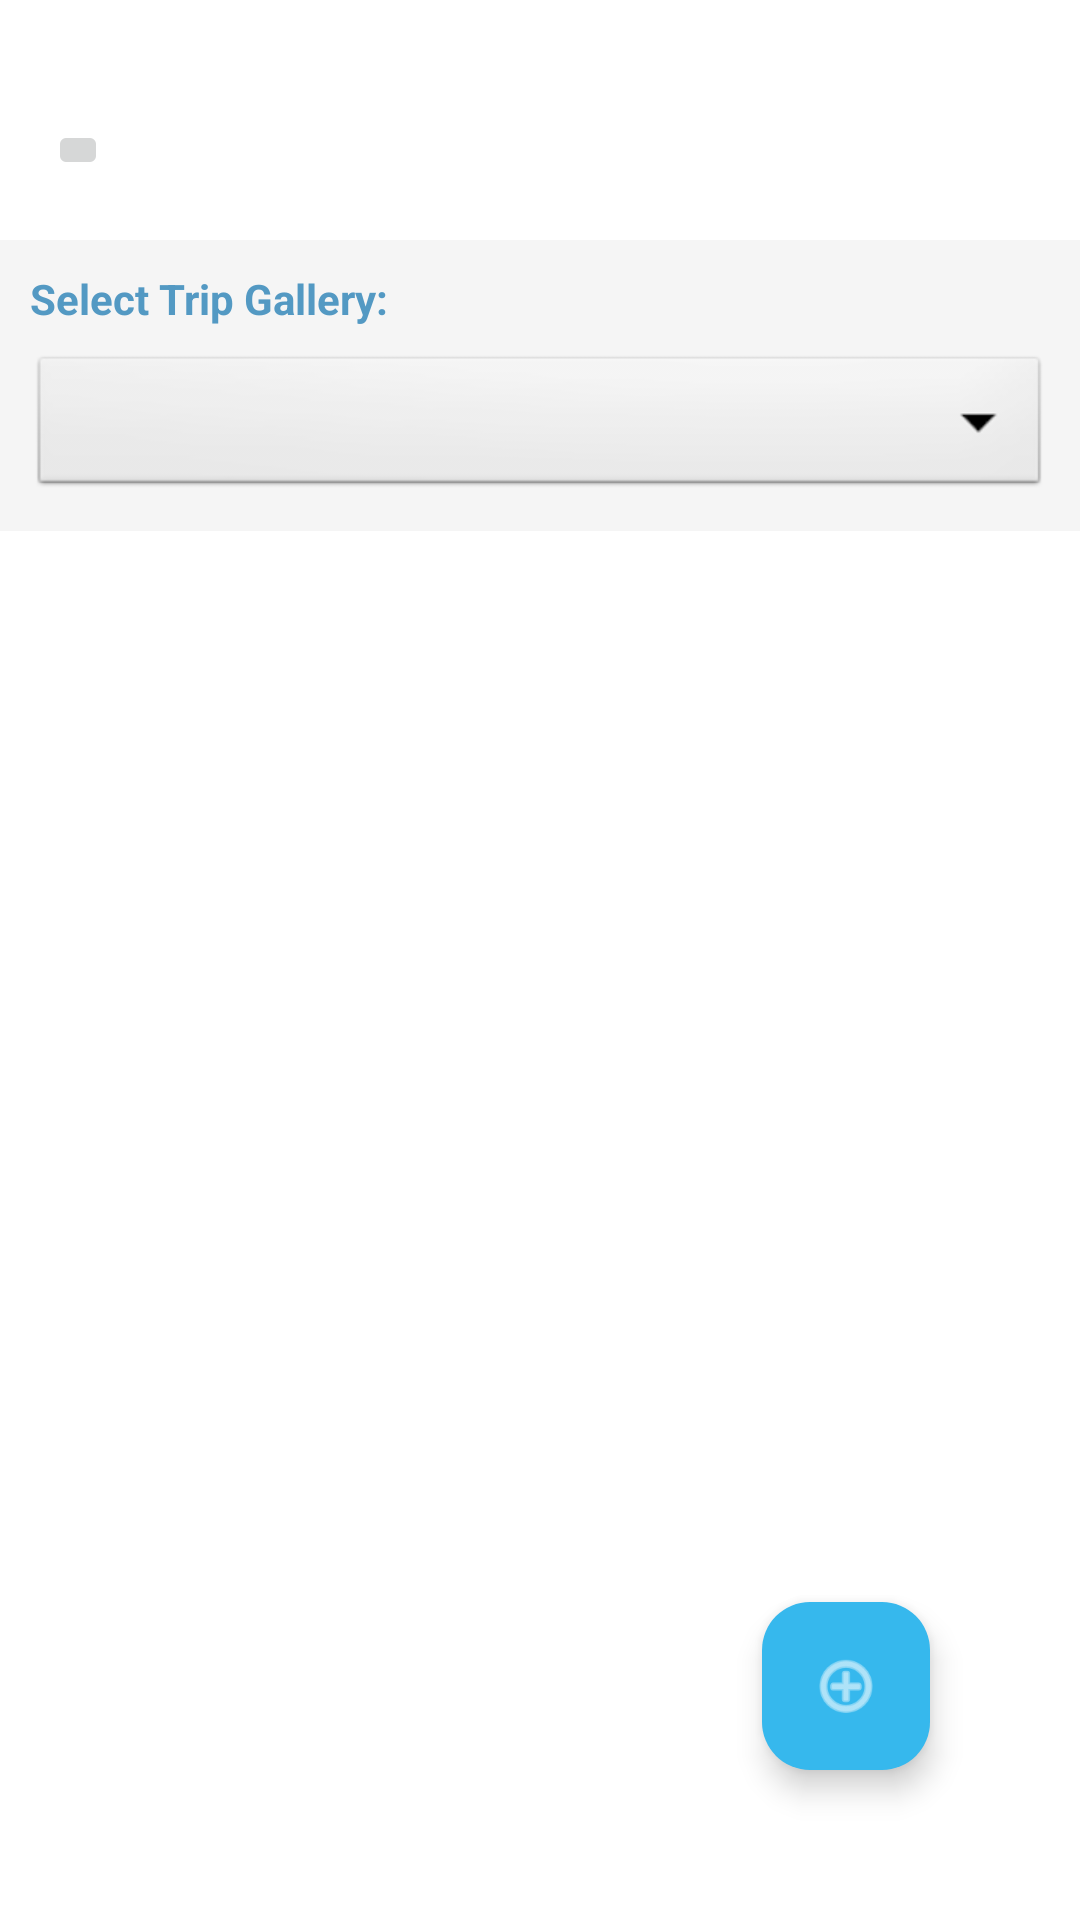

Icons on this 1080px x 1920px Android screen, each with the point to tap as (x,y):
add: (846,1686)
